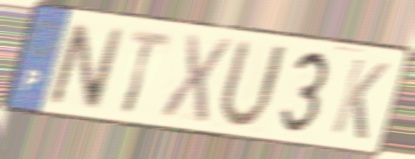3: (273, 47, 333, 139)
K: (327, 54, 392, 143)
N: (46, 19, 127, 113)
T: (120, 26, 175, 117)
U: (214, 35, 291, 133)
X: (156, 30, 235, 125)
